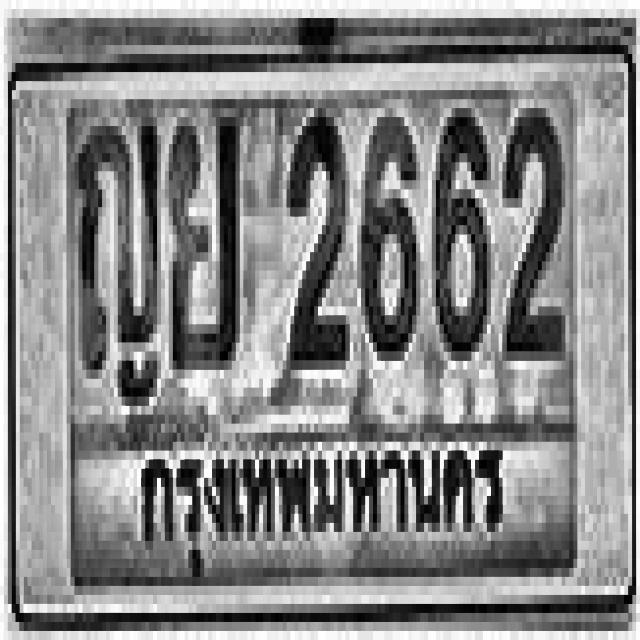license-plate: (7, 63, 634, 614)
